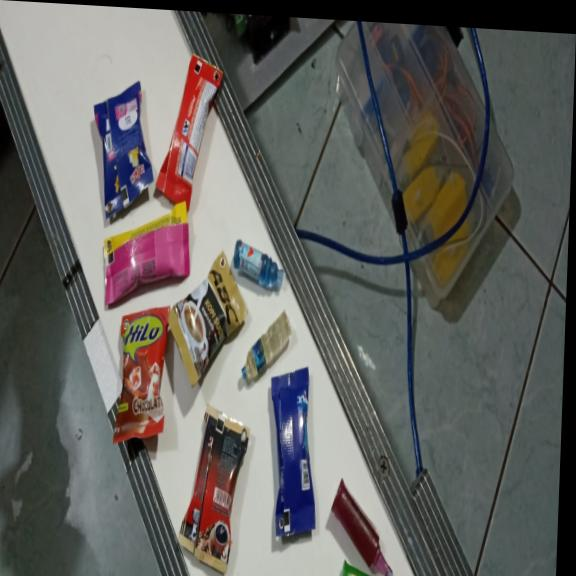Plastik: (176, 402, 253, 576), (166, 248, 249, 388), (154, 53, 224, 215), (101, 196, 193, 312), (264, 364, 323, 539), (89, 78, 158, 220), (116, 302, 170, 448), (329, 472, 397, 576), (240, 308, 293, 386), (232, 232, 285, 293), (335, 558, 397, 576)
